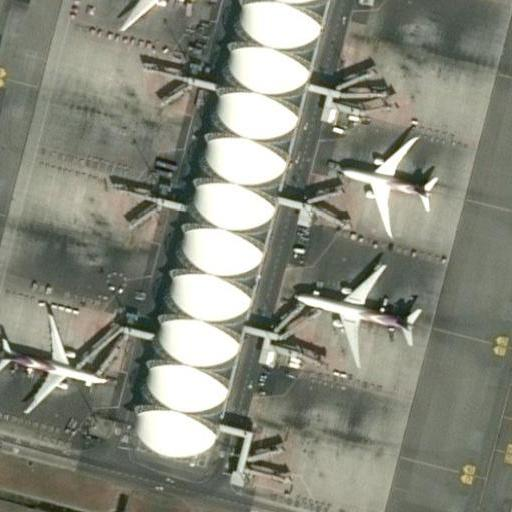Aircraft: (294, 257, 414, 369), (336, 127, 443, 234), (0, 308, 106, 413), (84, 0, 203, 32)
